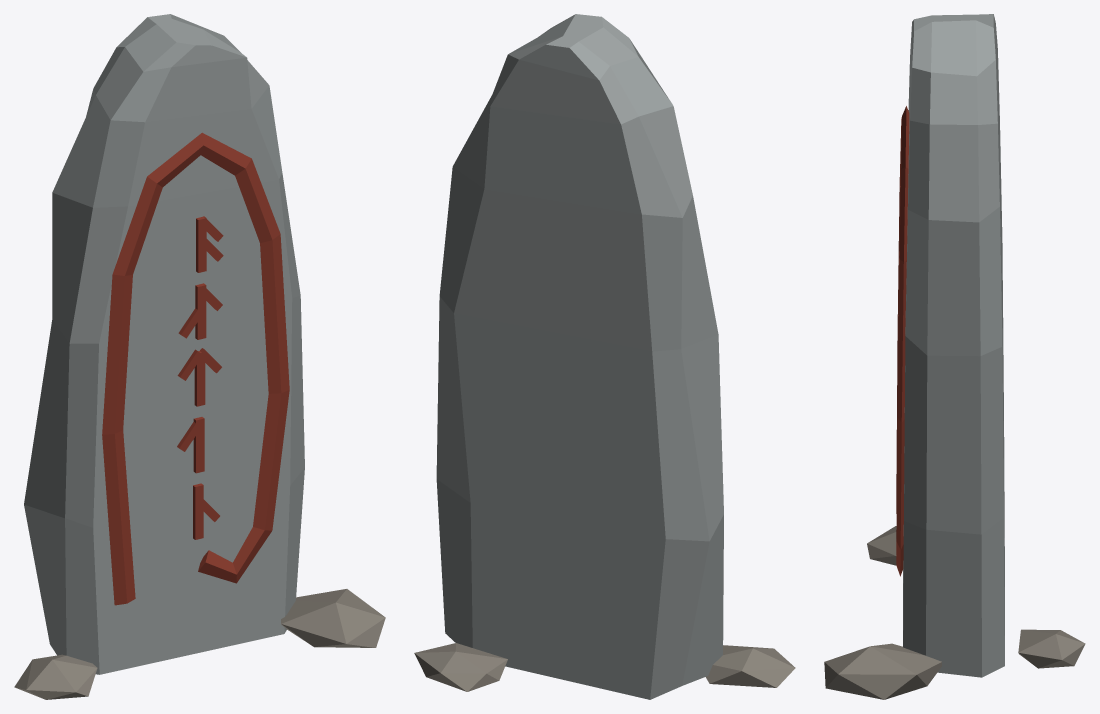
The model's file is runestone.glb.
The picture shows the model from 3 angles, left to right: view 1: azimuth 30°, elevation 25°; view 2: azimuth 150°, elevation 25°; view 3: azimuth 270°, elevation 25°; orthographic projection. The views are drawn at different scales.
Visible parts, largest first — view 1: runestone; view 2: runestone; view 3: runestone.
Boxes of the visible parts, bbox=[...] form: runestone: bbox=[14, 14, 385, 699]; runestone: bbox=[414, 14, 795, 699]; runestone: bbox=[824, 14, 1085, 699].
Size of the model in its own units: 1.61 by 2.78 by 1.07.
